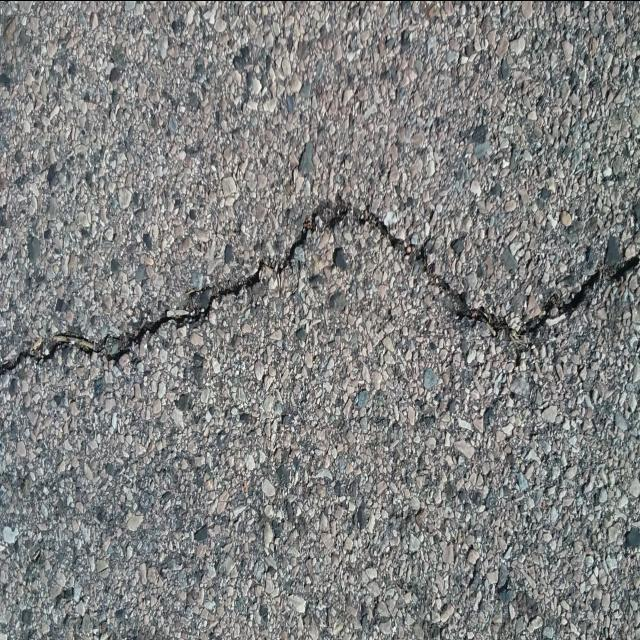Crack: (0, 196, 640, 375)
